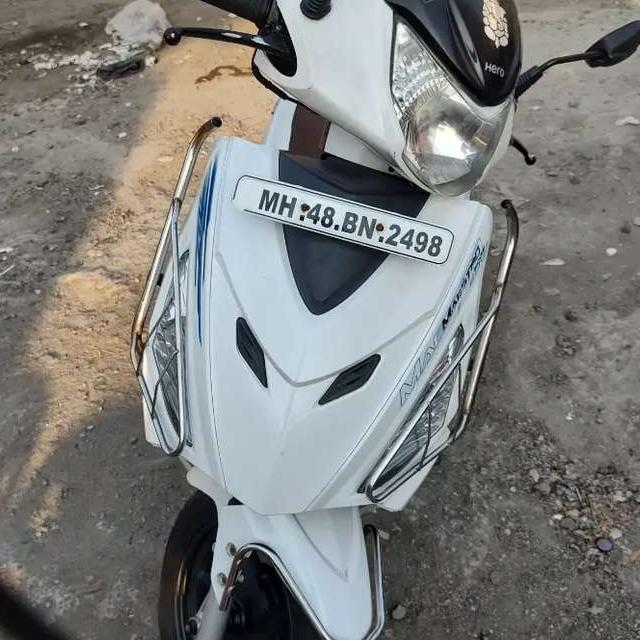Indian_Number_Plate: (232, 175, 453, 265)
